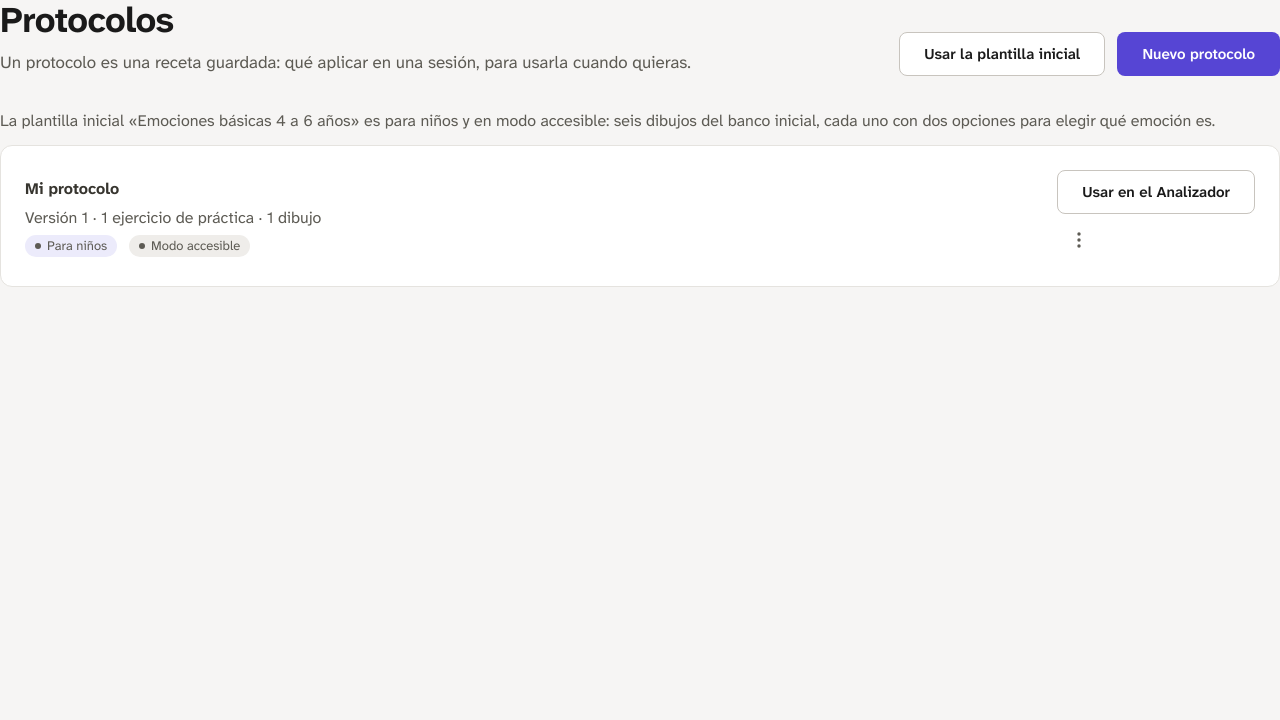
Scenario: menú de tres puntos de un protocolo › la vista previa muestra los pasos sin editarlos
The image size is (1280, 720).
Click the button named "Más acciones para «Mi protocolo»": (1079, 240) [1057,218,1101,262]
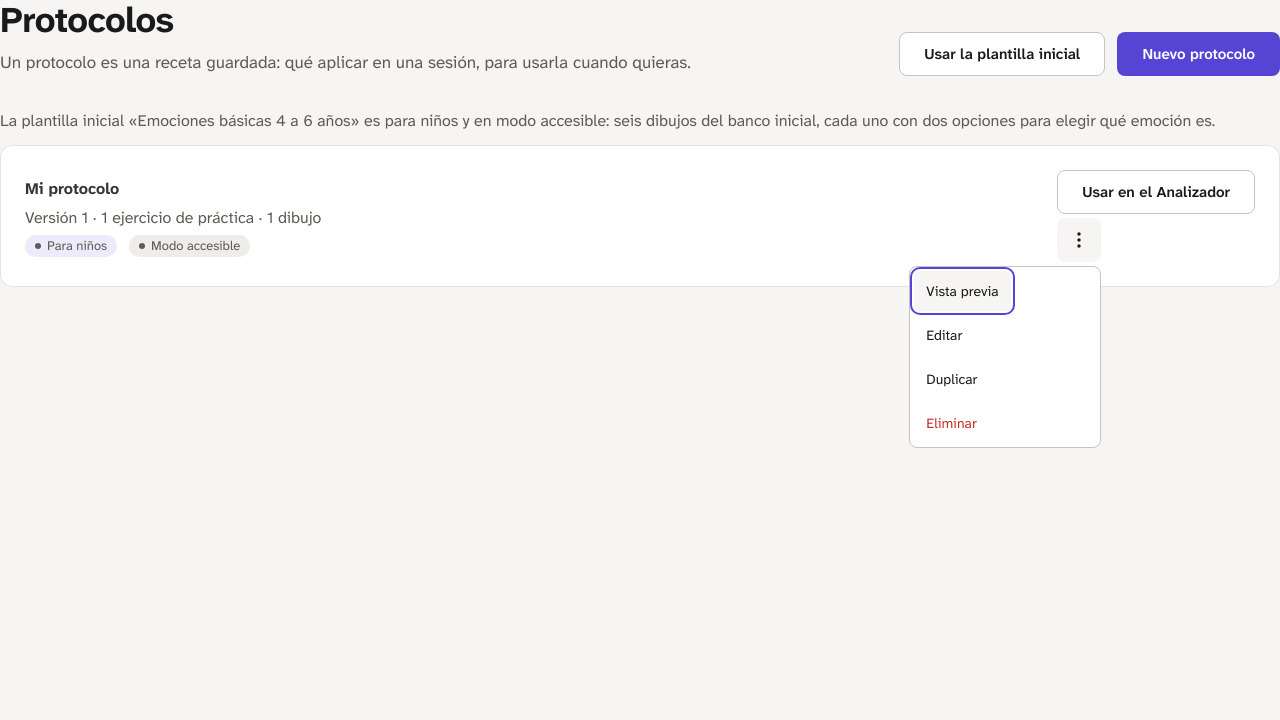
Click the menu item "Vista previa": (962, 291) [914,271,1011,311]
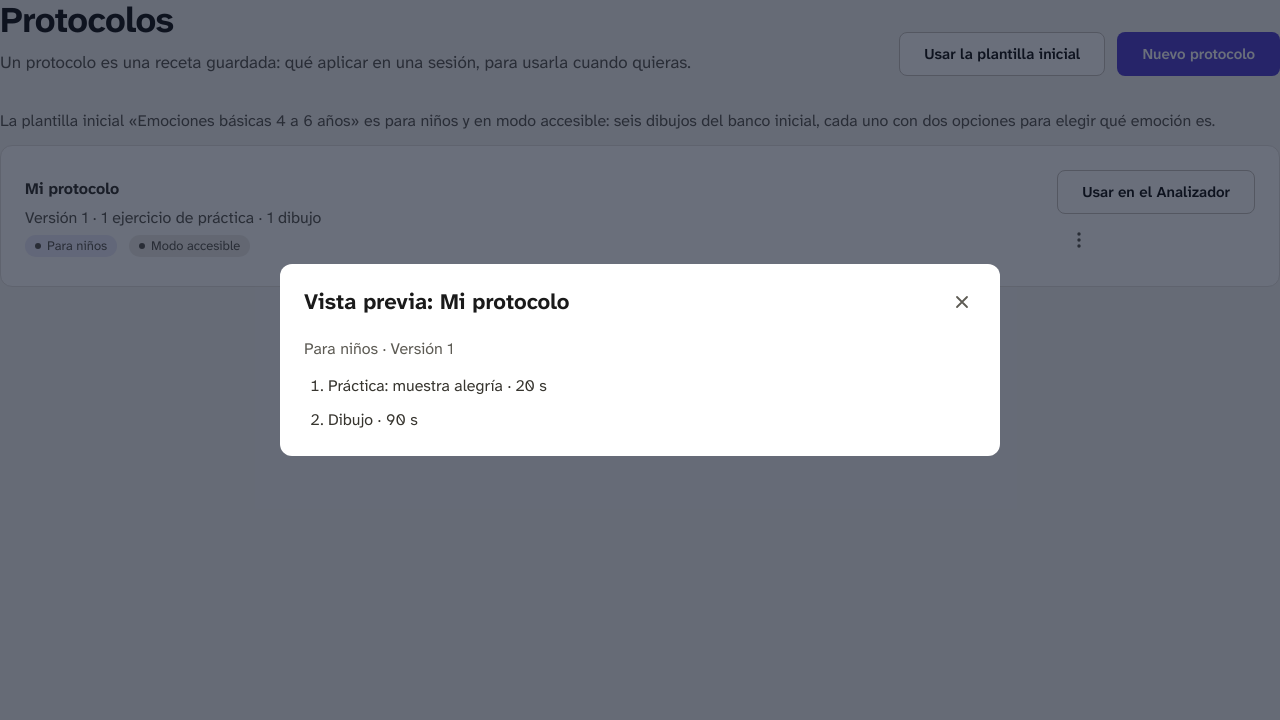
Now the dialog "Vista previa: Mi protocolo" shows "Práctica: muestra alegría · 20 s", box [328,375,547,396]
Now the dialog "Vista previa: Mi protocolo" shows "Dibujo · 90 s", box [328,409,418,430]
